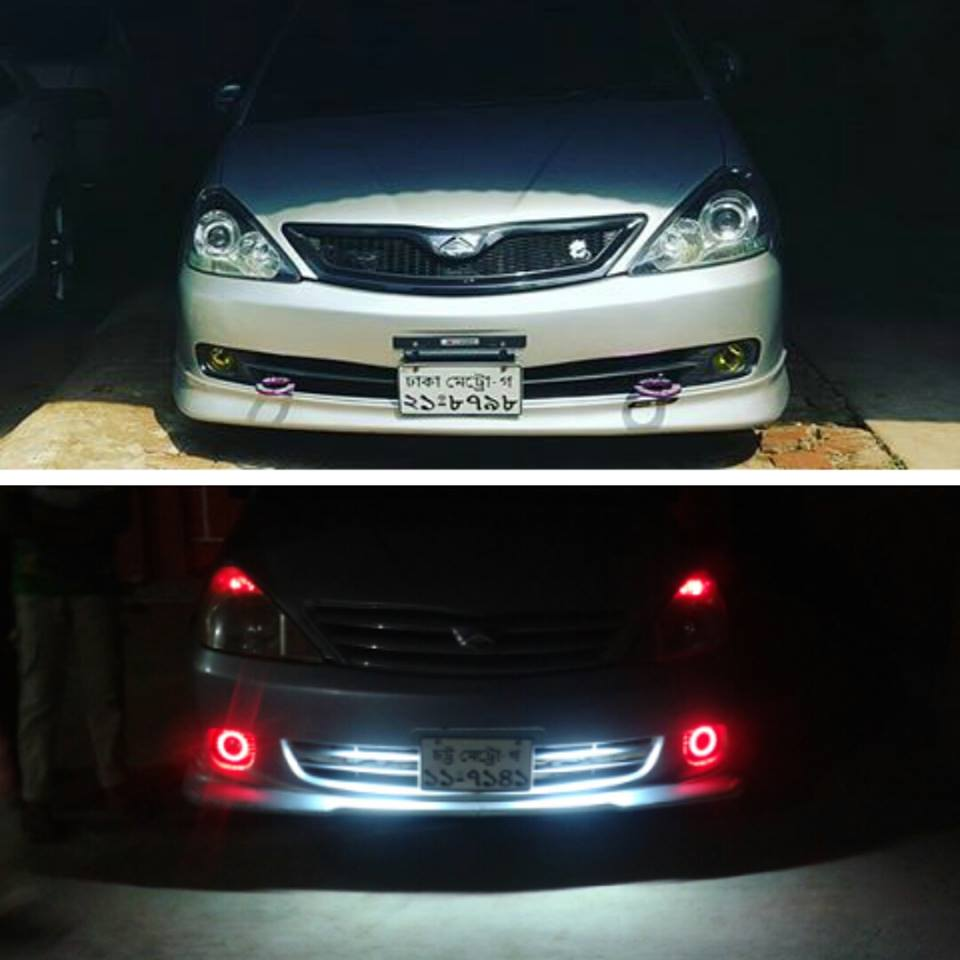registration_plate: (397, 363, 524, 418), (419, 736, 533, 793)
